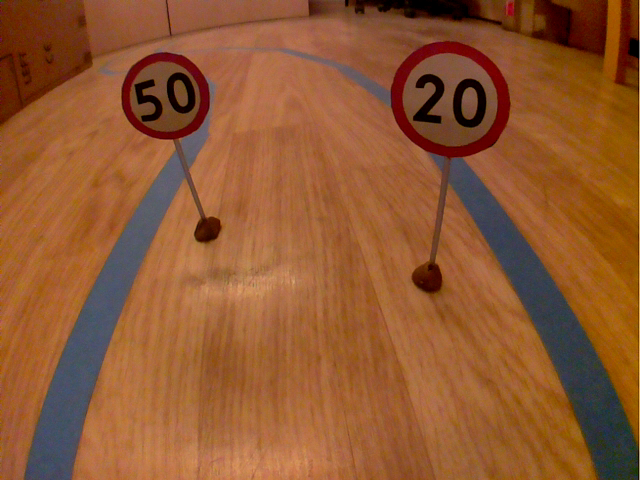Ograniczenie 20: (386, 37, 514, 161)
Ograniczenie 50: (116, 47, 213, 144)
